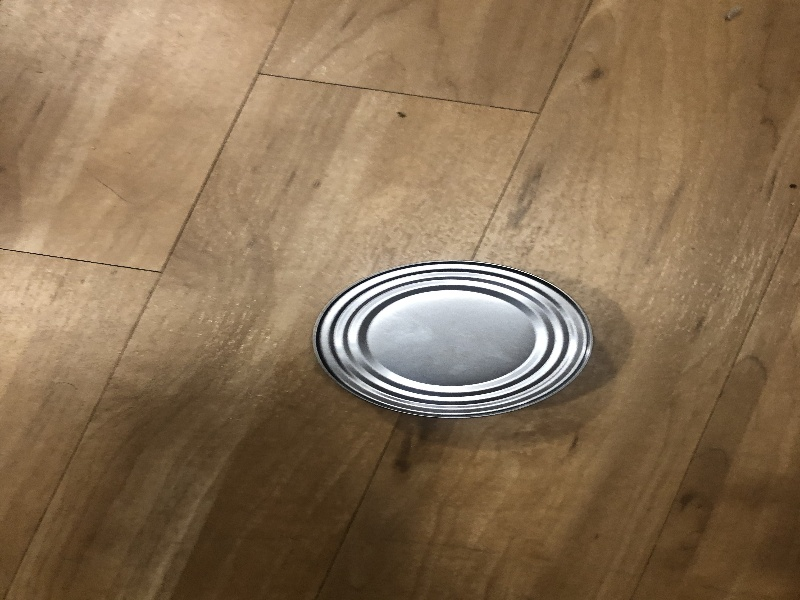metal: (305, 256, 605, 425)
